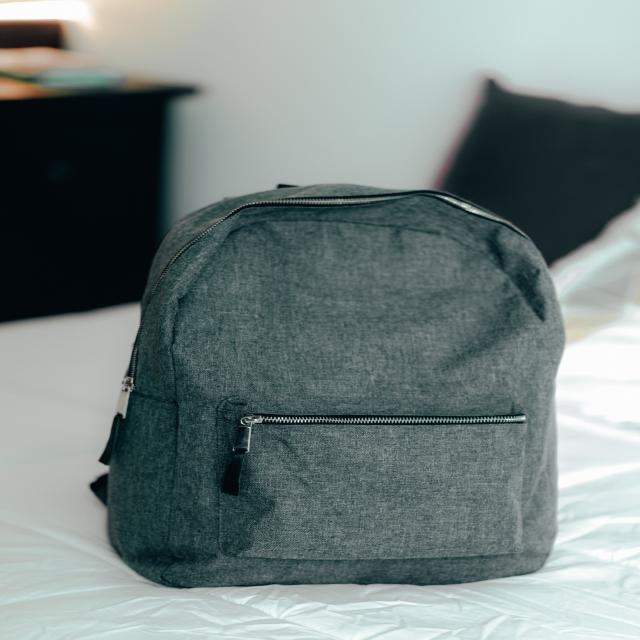backpack: (110, 178, 565, 586)
